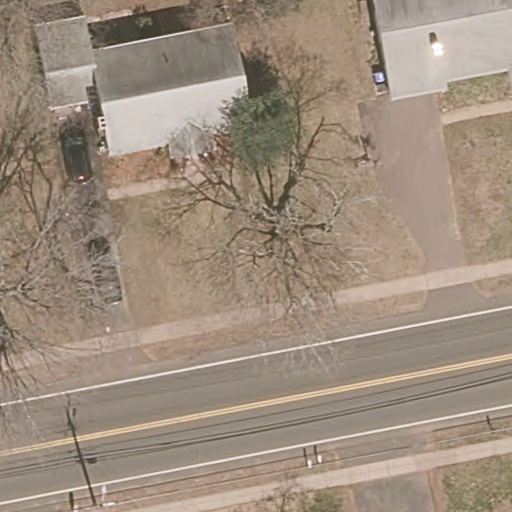DT: (70, 484, 115, 512)
